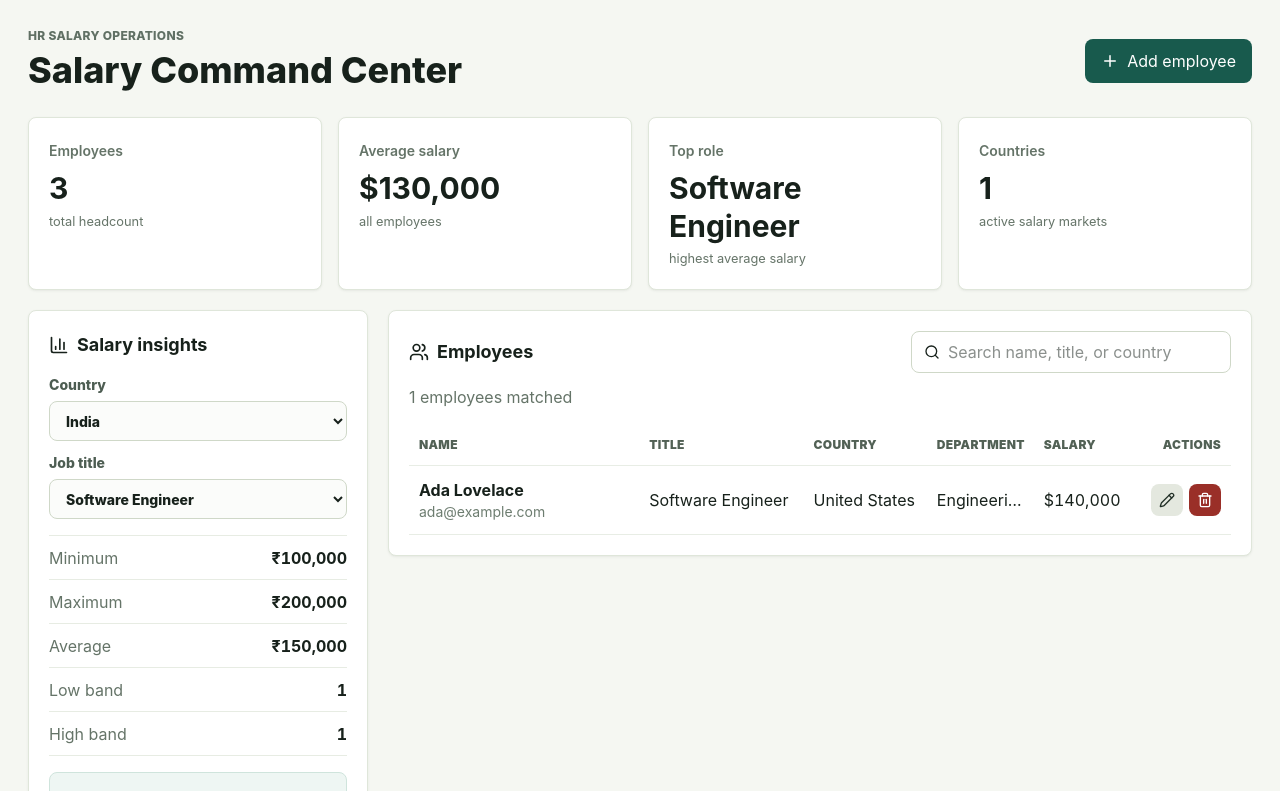
Test: SalaryCommandCenter › uses controlled country and currency options in the employee form
The image size is (1280, 791).
Click the button "Add employee" at coordinates (1169, 60), box 1085,38 -> 1252,82
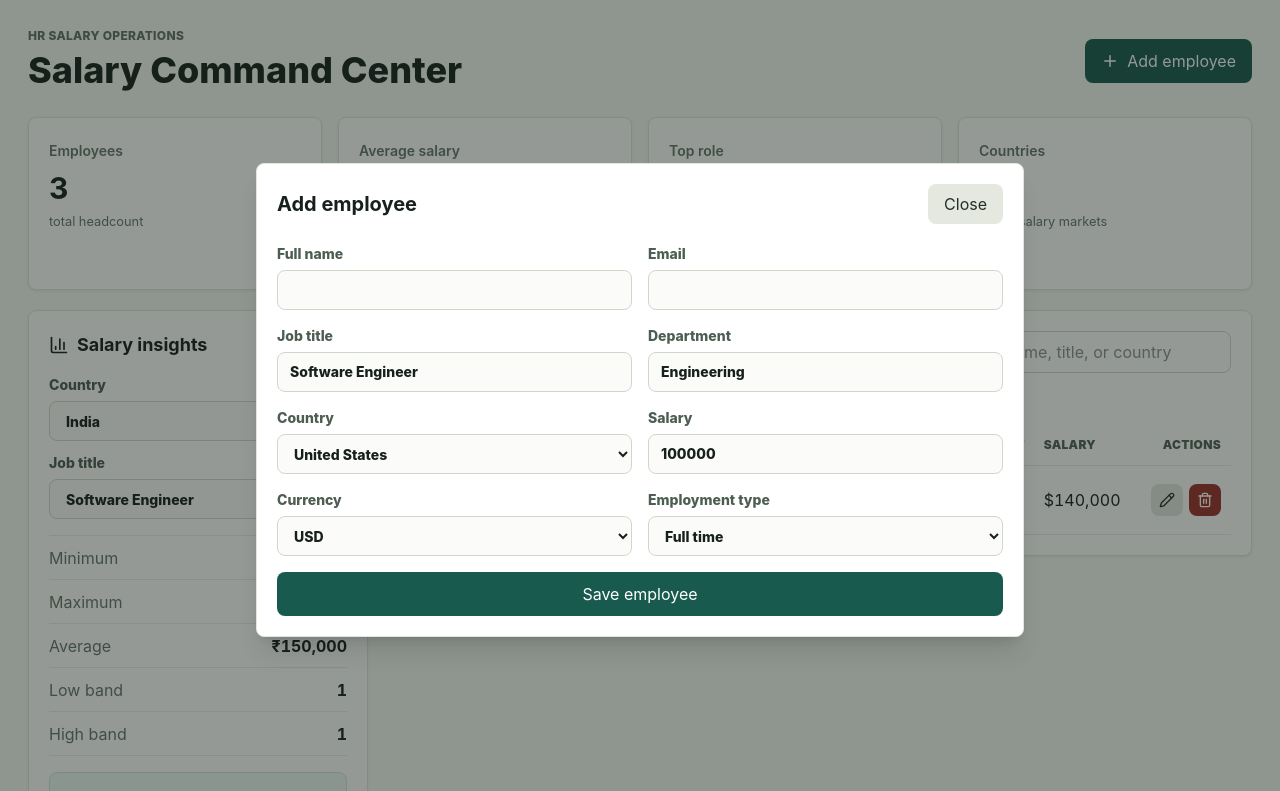
Now the dropdown labelled "Country" is shown
Now the dropdown labelled "Currency" is shown, box 277,516 -> 632,556
Select "India" in the dropdown labelled "Country" at coordinates (454, 454), box 277,434 -> 632,474
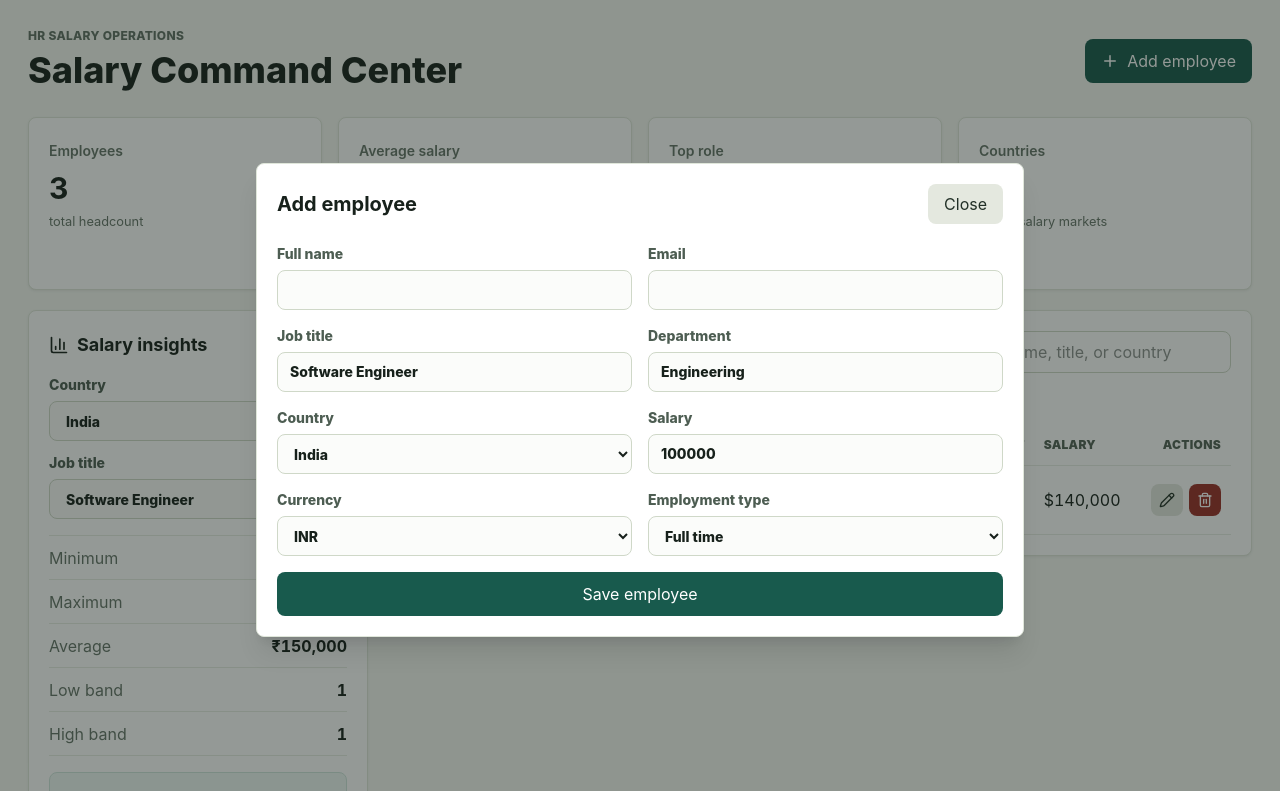
Now the dropdown labelled "Currency" shows "INR", box 277,516 -> 632,556
